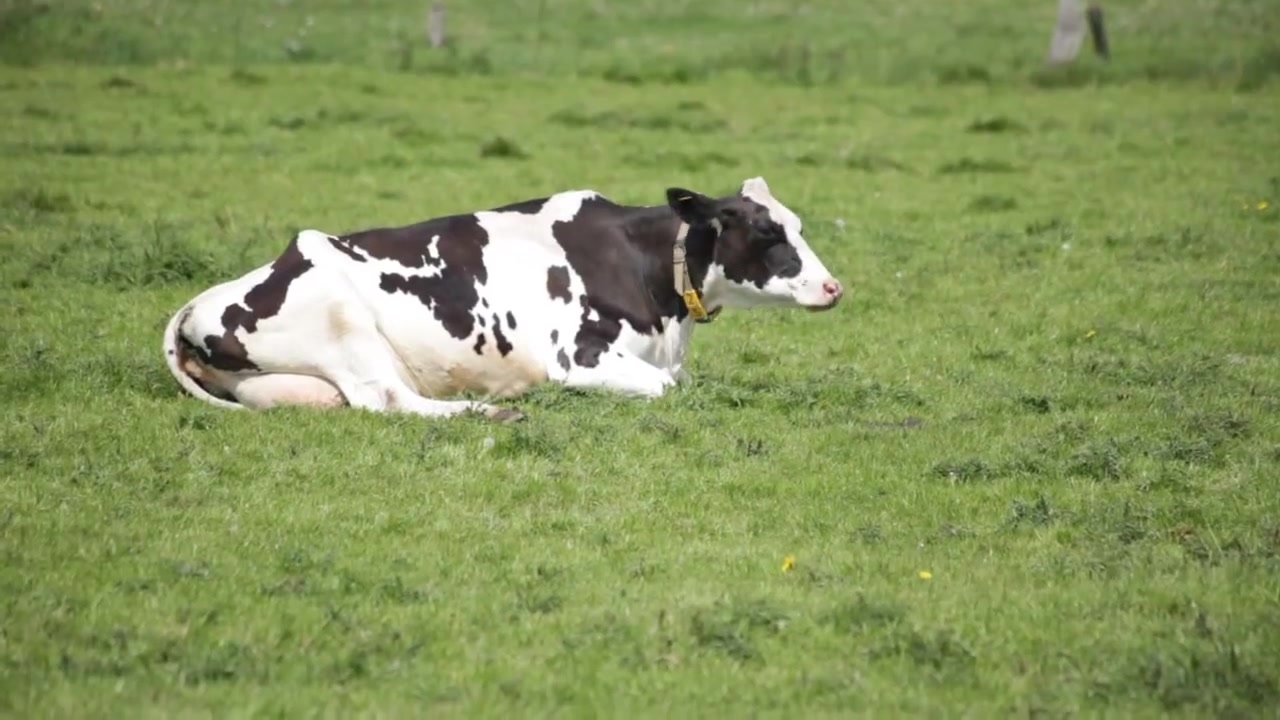cow: (160, 175, 845, 420)
